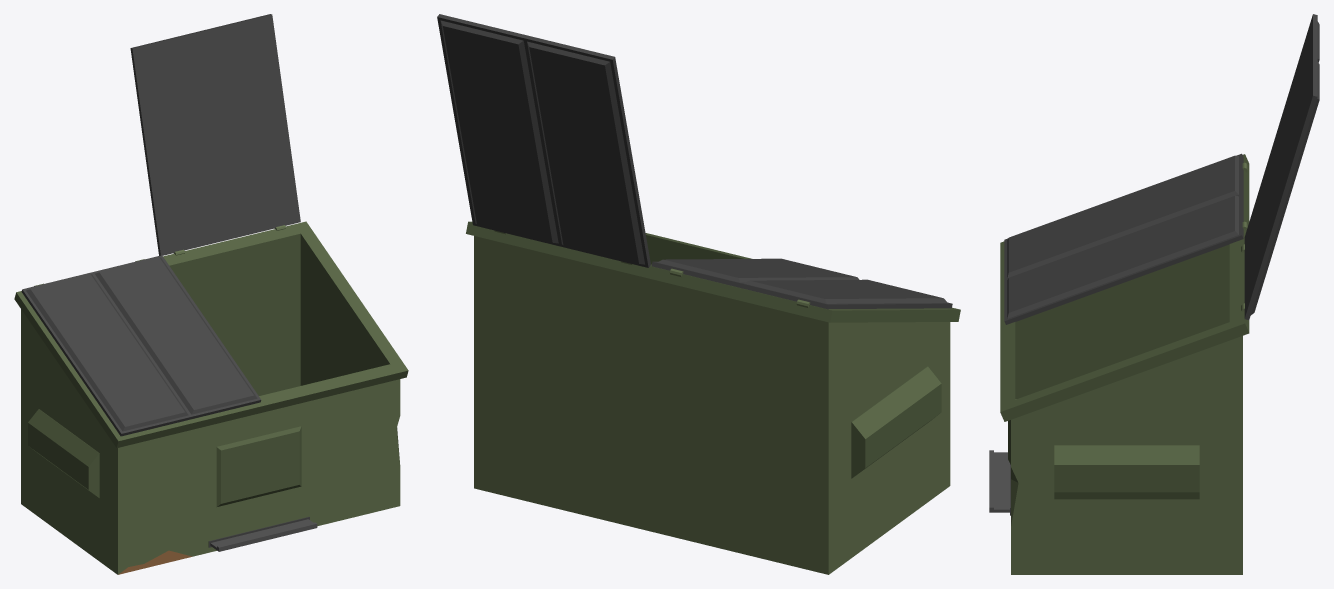
Rendered from SM_Props_Trash_03.fbx.
3 views of the same model, side by side, from view 1: azimuth 30°, elevation 25°; view 2: azimuth 150°, elevation 25°; view 3: azimuth 270°, elevation 25° (orthographic). The views are drawn at different scales.
Parts seen in each view (by area): view 1: SM_Props_Trash_03; view 2: SM_Props_Trash_03; view 3: SM_Props_Trash_03.
Boxes of the visible parts, bbox=[...] form: SM_Props_Trash_03: bbox=[14, 14, 408, 574]; SM_Props_Trash_03: bbox=[437, 14, 960, 574]; SM_Props_Trash_03: bbox=[989, 14, 1319, 574].
Bounding box in the file's own units: 2 × 2.5 × 1.57.
